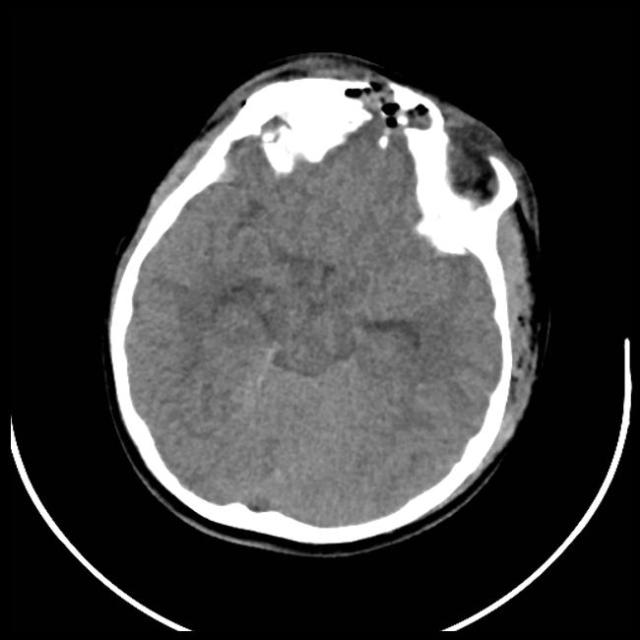lesion: (105, 56, 548, 545)
